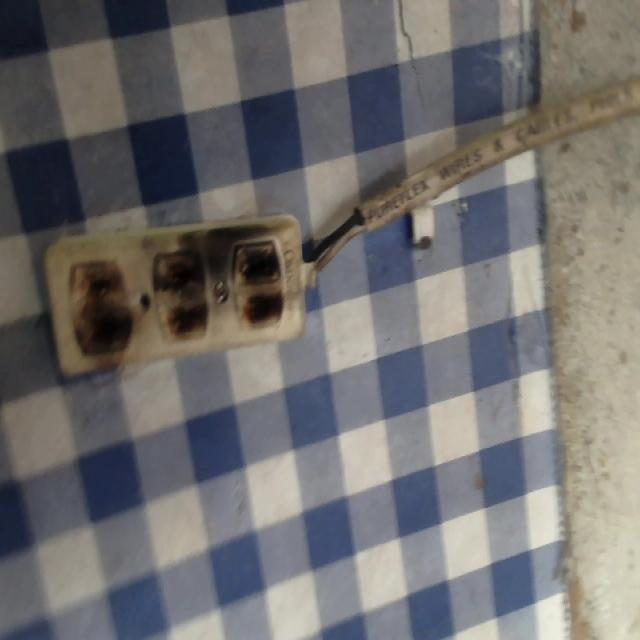-: (62, 246, 141, 366), (221, 231, 297, 340), (147, 247, 214, 348)
